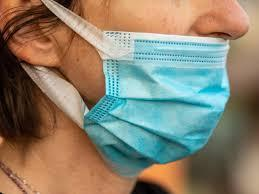Wore Mask Incorrectly: (1, 2, 259, 169)
